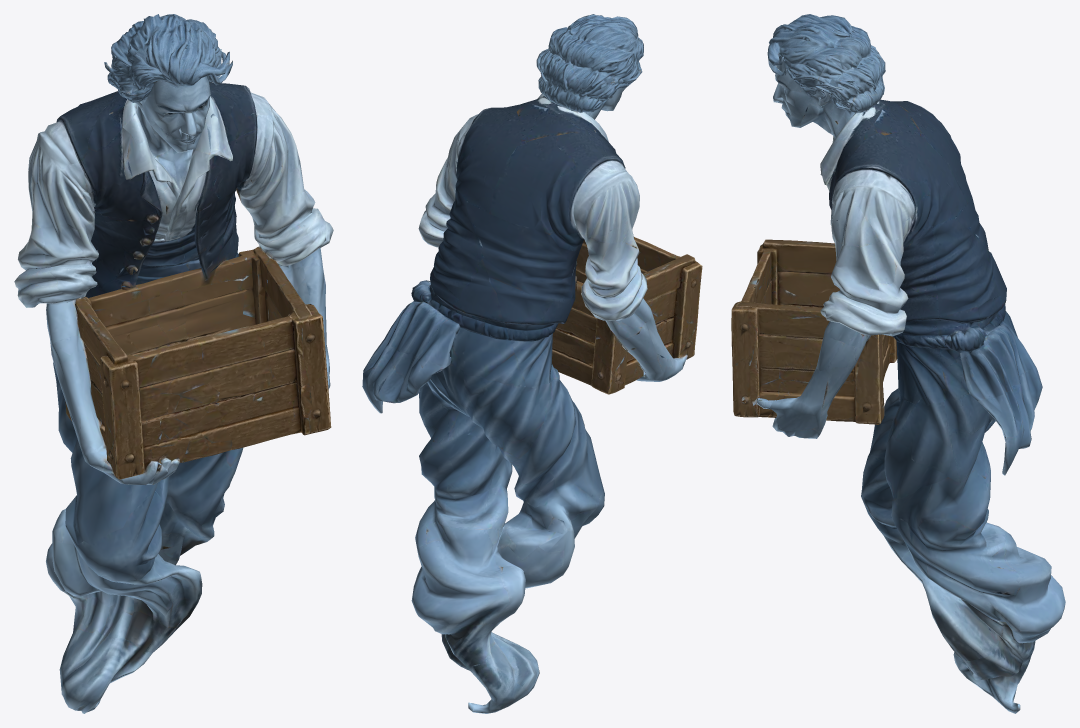
Rendered from ghost-delivery.glb.
3 renders of one model, left to right at view 1: azimuth 30°, elevation 25°; view 2: azimuth 150°, elevation 25°; view 3: azimuth 270°, elevation 25°, orthographic. The views are drawn at different scales.
Parts seen in each view (by area): view 1: body, item; view 2: body, item; view 3: body, item.
Boxes of the visible parts, bbox=[...] form: body: bbox=[14, 14, 333, 713]; item: bbox=[65, 189, 331, 479]; body: bbox=[362, 14, 687, 713]; item: bbox=[552, 237, 702, 394]; body: bbox=[752, 14, 1065, 713]; item: bbox=[731, 239, 897, 424].
Size of the model in its own units: 0.724 by 1.9 by 0.8495.
1 material, 1 textured.
